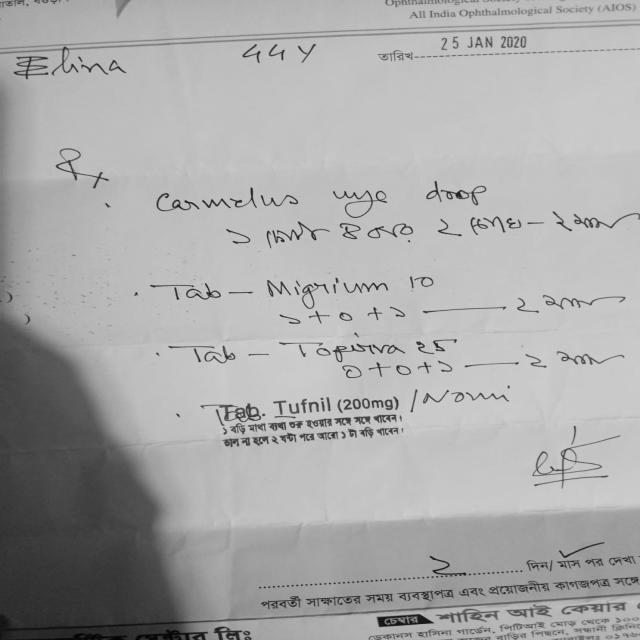medicine: (142, 184, 324, 218), (252, 270, 398, 302), (282, 336, 417, 364)
